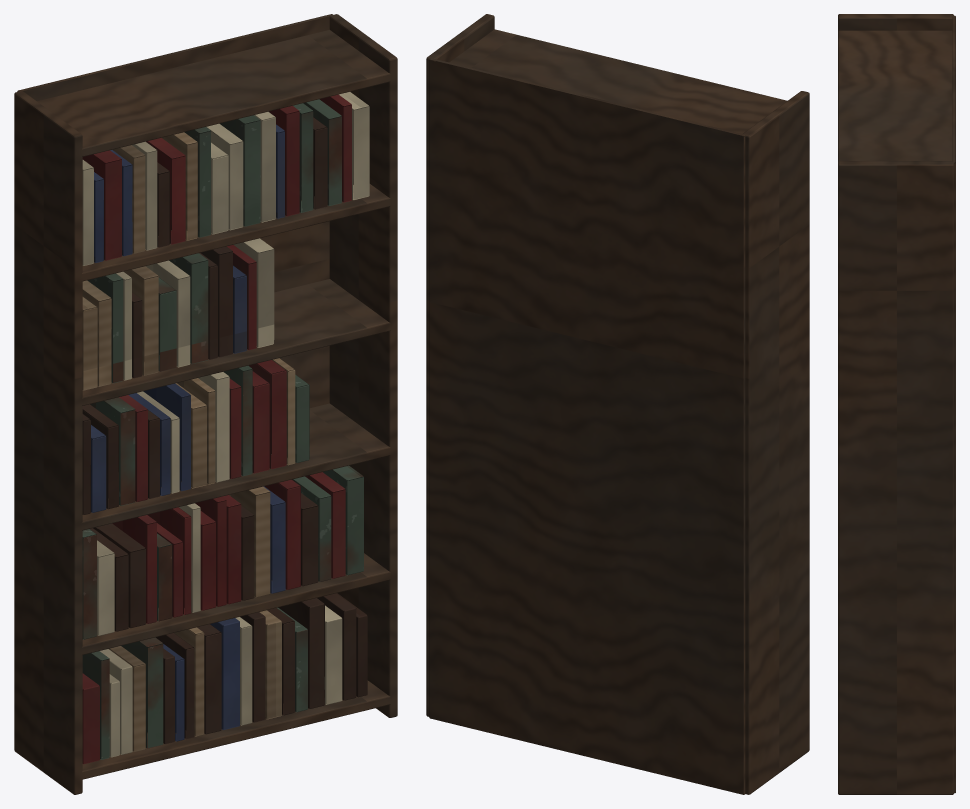
Rendered from L14_home_bookshelf_v2.glb.
The picture shows the model from 3 angles, left to right: view 1: azimuth 30°, elevation 25°; view 2: azimuth 150°, elevation 25°; view 3: azimuth 270°, elevation 25°; orthographic projection. The views are drawn at different scales.
Parts seen in each view (by area): view 1: L14_home_bookshelf_v2; view 2: L14_home_bookshelf_v2; view 3: L14_home_bookshelf_v2.
Boxes of the visible parts, x1,y1,x2,y2 form: L14_home_bookshelf_v2: [14, 14, 397, 794]; L14_home_bookshelf_v2: [426, 14, 809, 794]; L14_home_bookshelf_v2: [838, 14, 955, 794].
Bounding box in the file's own units: 0.925 × 1.8 × 0.305.
7 materials, 7 textured.
